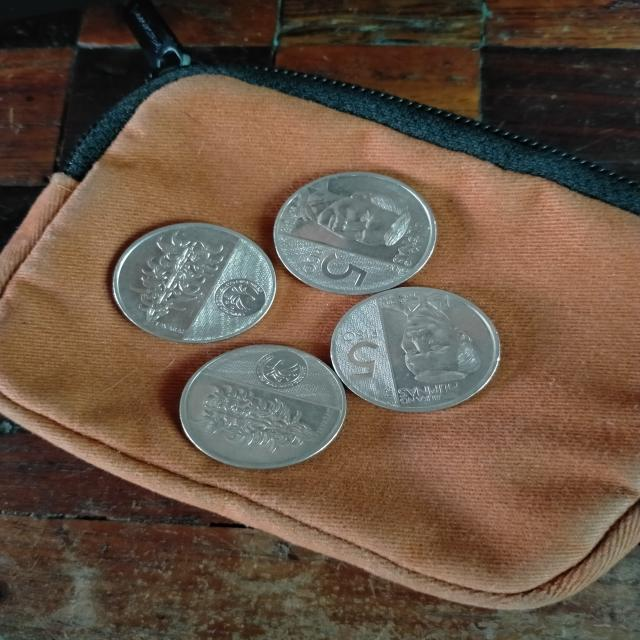5_New_Back: (190, 380, 318, 460), (113, 225, 216, 324)
5_New_Front: (294, 241, 374, 293), (328, 320, 394, 382)
